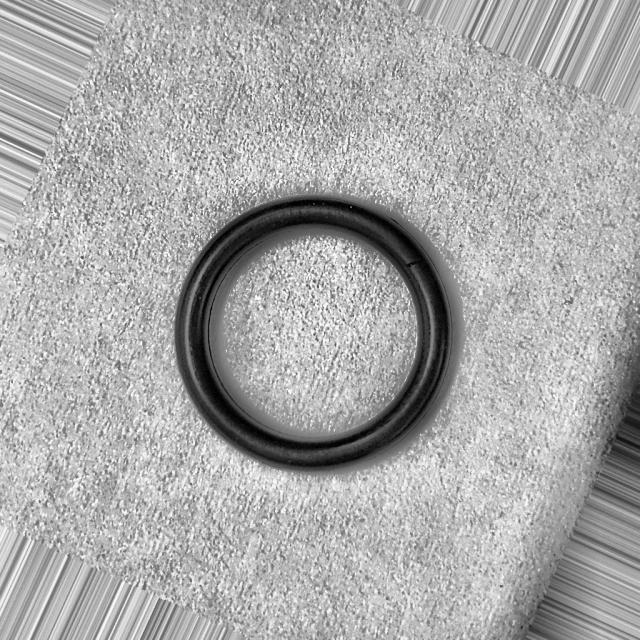切割缺陷: (402, 256, 427, 269)
